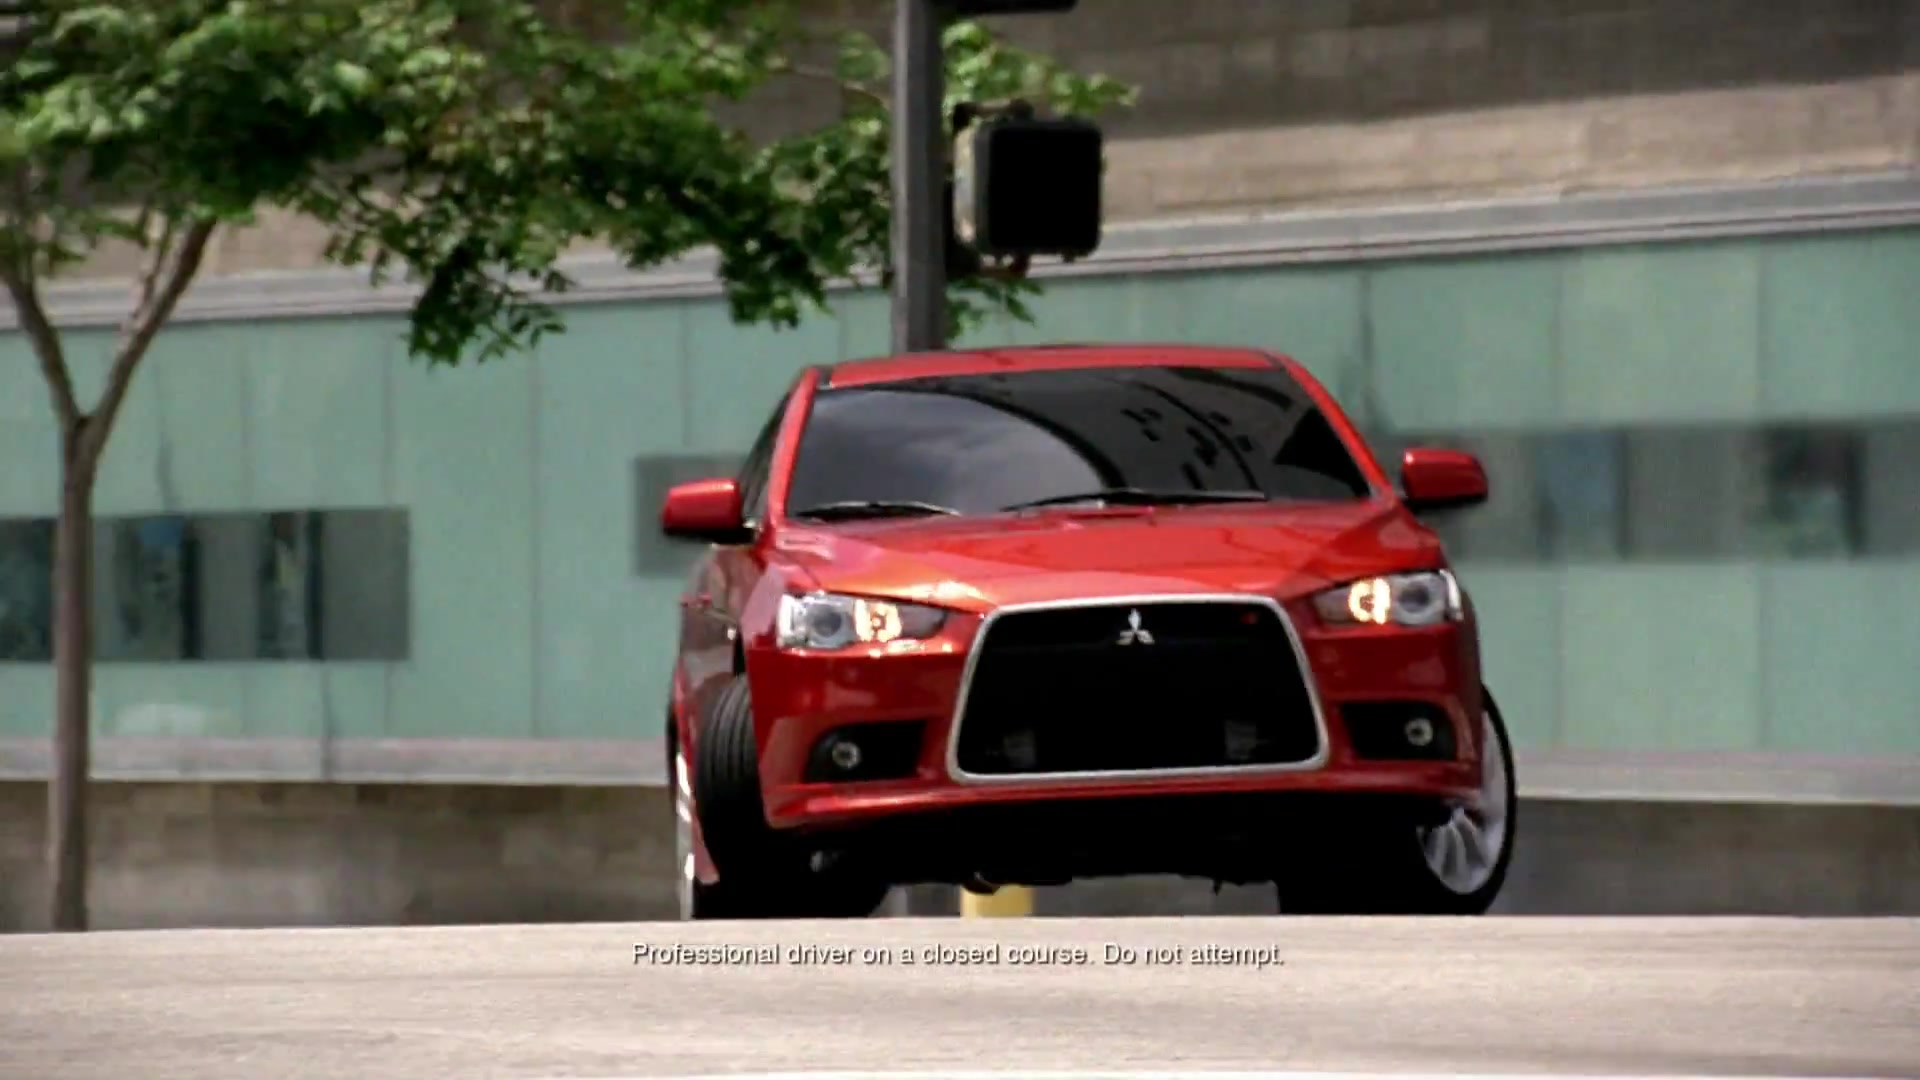car: (657, 338, 1520, 926)
